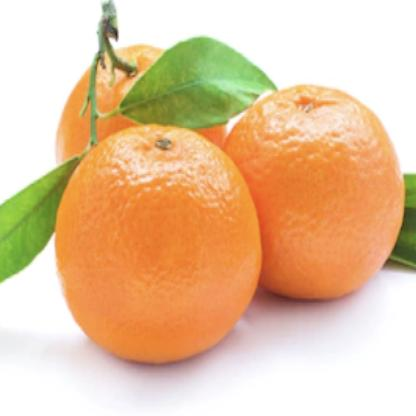fresh: (59, 40, 406, 366)
